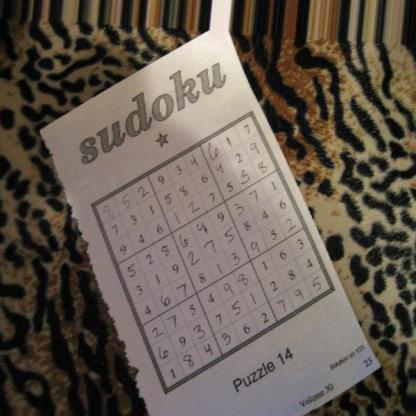sudoku: (87, 109, 338, 394)
